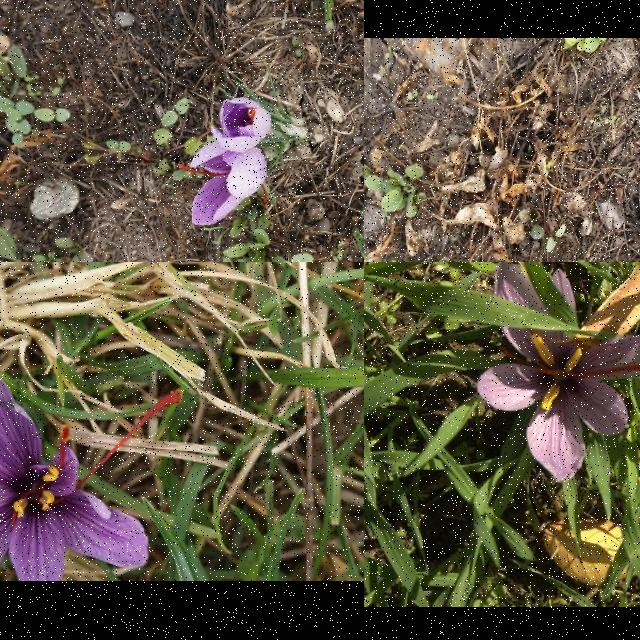flower: (0, 365, 183, 581), (477, 262, 640, 482), (178, 142, 268, 225), (210, 100, 272, 154)
